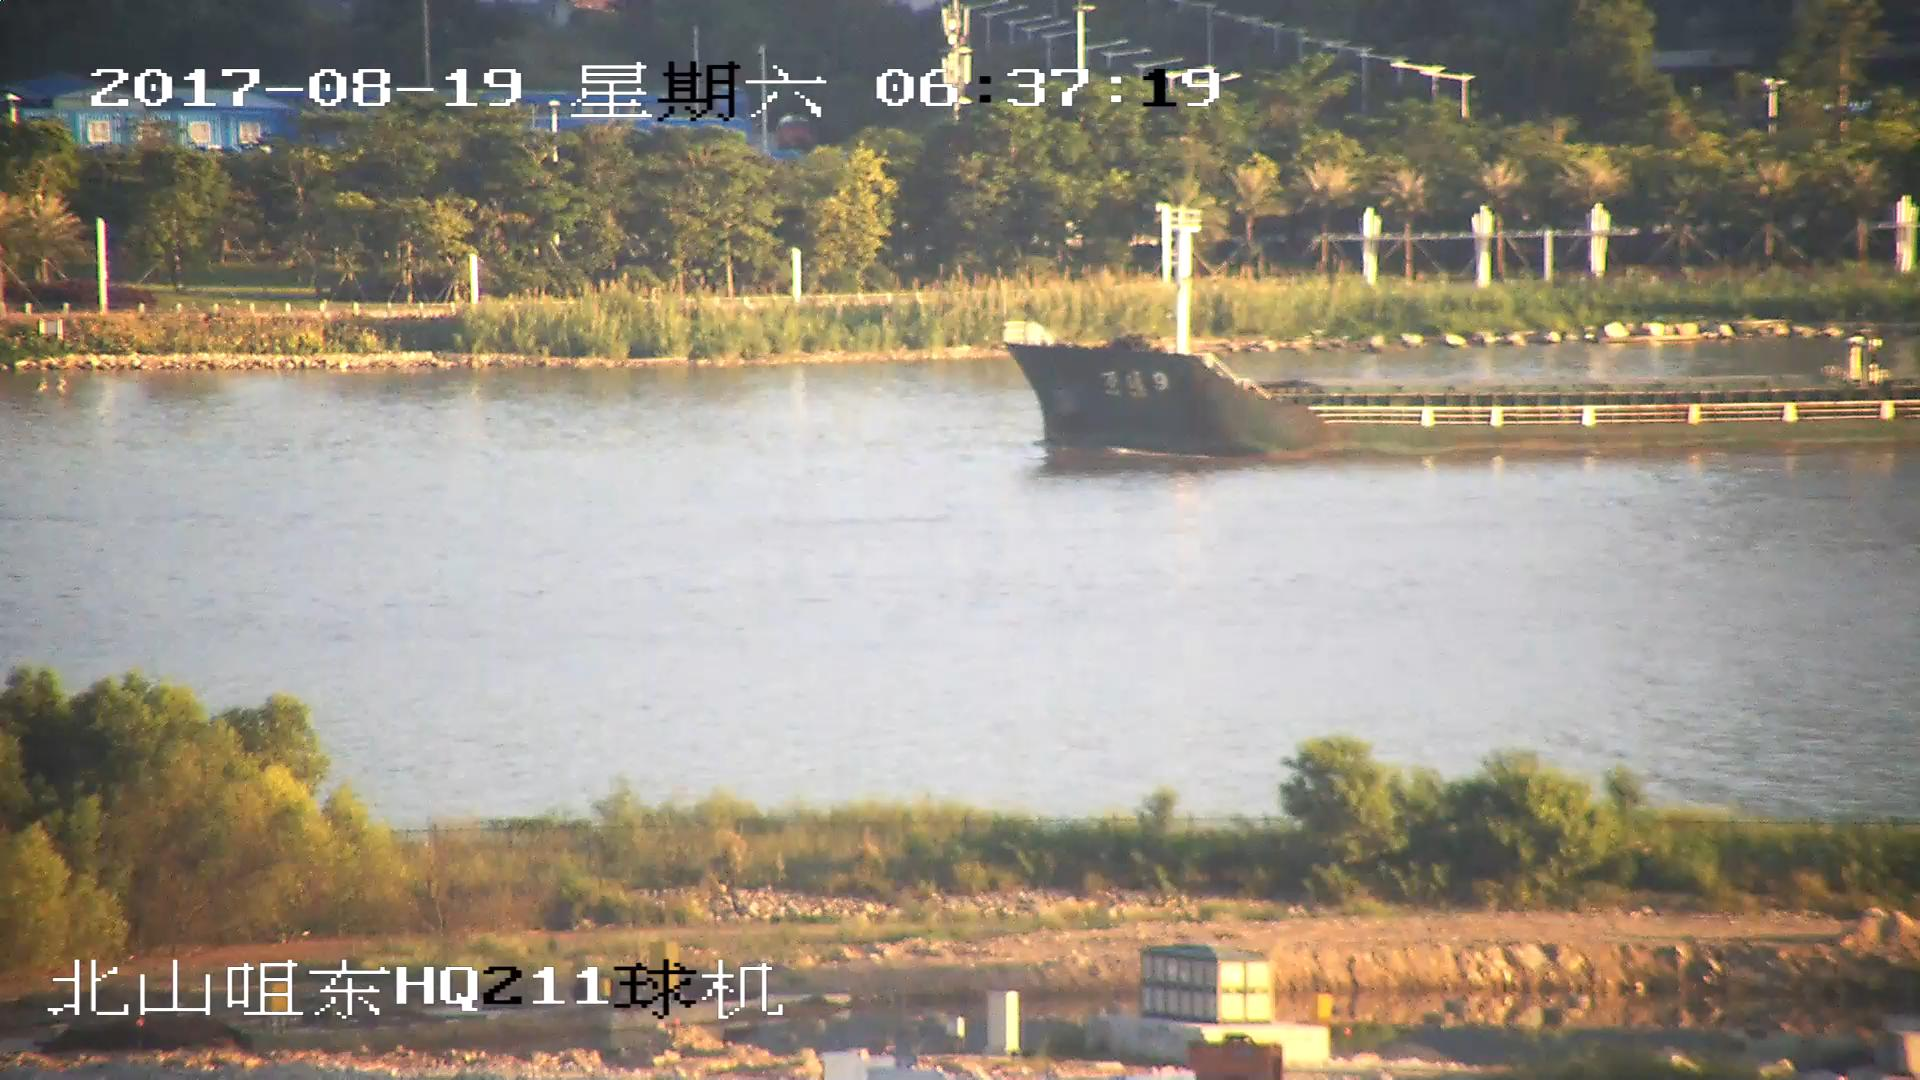general cargo ship: (996, 222, 1920, 457)
